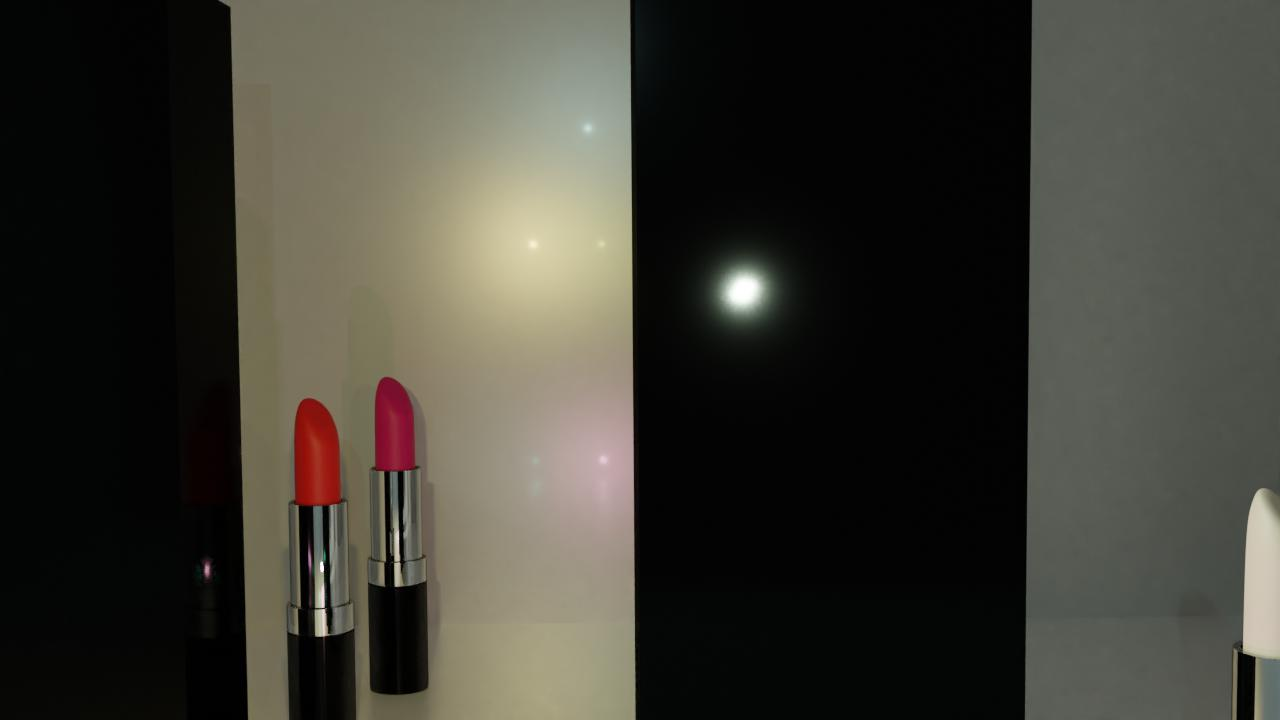CLASSIFIER_NAME: (285, 393, 358, 720), (366, 373, 430, 695), (1216, 481, 1280, 720)
